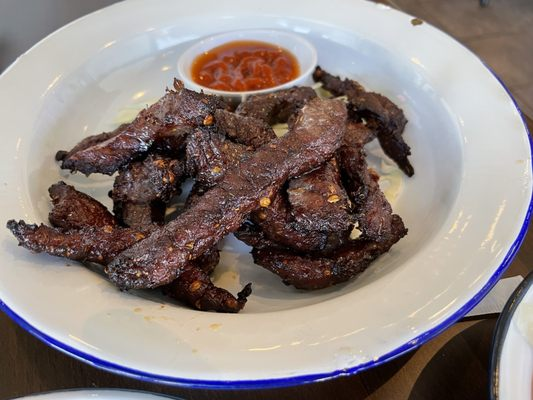sushi: (173, 28, 319, 112), (489, 268, 533, 399)
